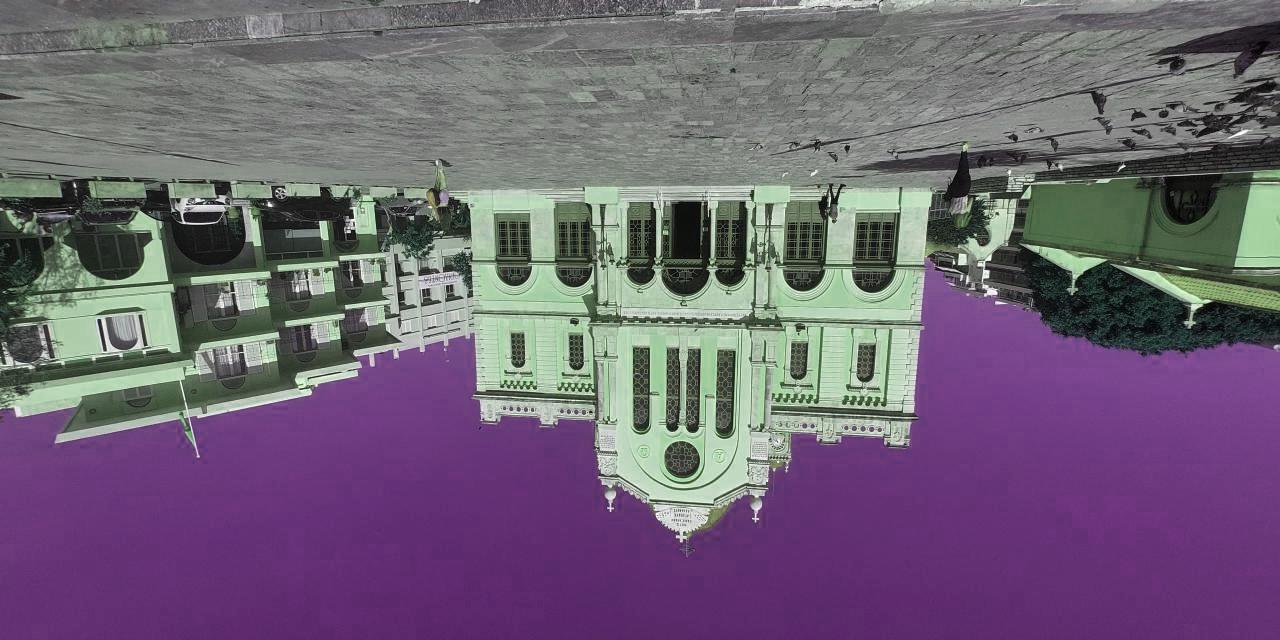Agios Minas: (468, 189, 935, 563)
